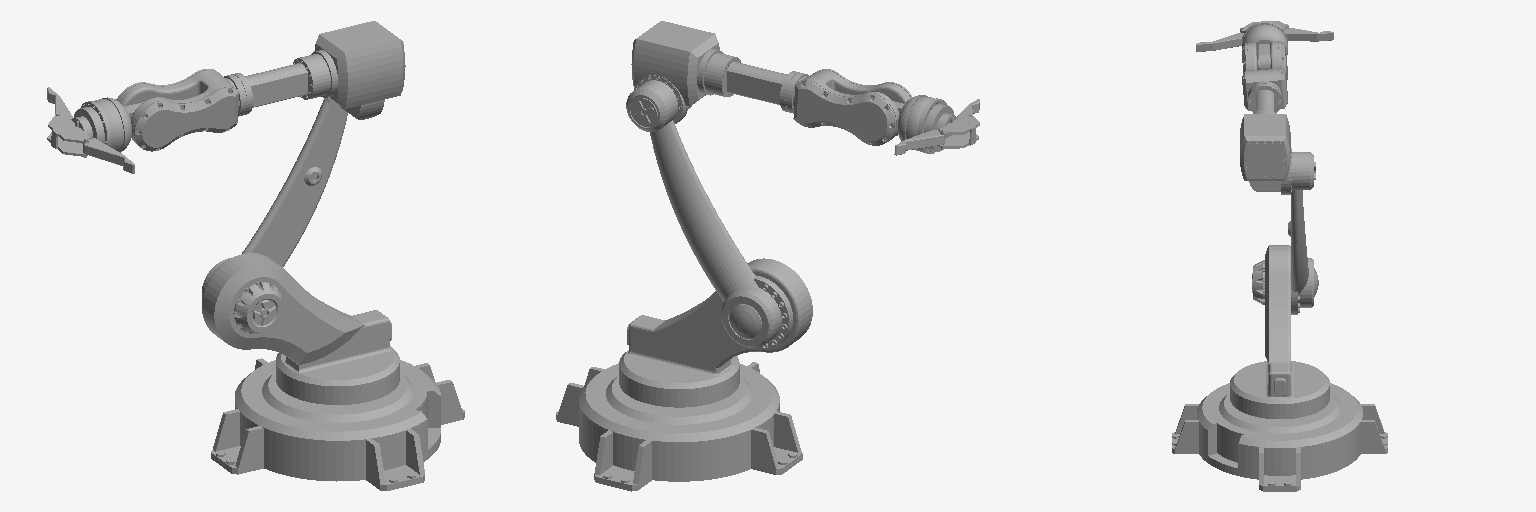
robot.urdf — conbime_ver1:
<?xml version="1.0" ?>
<!-- =================================================================================== -->
<!-- |    This document was autogenerated by xacro from urdf/conbime_ver1.xacro        | -->
<!-- |    EDITING THIS FILE BY HAND IS NOT RECOMMENDED                                 | -->
<!-- =================================================================================== -->
<robot xmlns:xacro="http://www.ros.org/wiki/xacro" name="conbime_ver1">
  <material name="silver">
    <color rgba="0.700 0.700 0.700 1.000"/>
  </material>
  <transmission name="Revolute 1_tran">
    <type>transmission_interface/SimpleTransmission</type>
    <joint name="Revolute 1">
      <hardwareInterface>hardware_interface/EffortJointInterface</hardwareInterface>
    </joint>
    <actuator name="Revolute 1_actr">
      <hardwareInterface>hardware_interface/EffortJointInterface</hardwareInterface>
      <mechanicalReduction>1</mechanicalReduction>
    </actuator>
  </transmission>
  <transmission name="Revolute 2_tran">
    <type>transmission_interface/SimpleTransmission</type>
    <joint name="Revolute 2">
      <hardwareInterface>hardware_interface/EffortJointInterface</hardwareInterface>
    </joint>
    <actuator name="Revolute 2_actr">
      <hardwareInterface>hardware_interface/EffortJointInterface</hardwareInterface>
      <mechanicalReduction>1</mechanicalReduction>
    </actuator>
  </transmission>
  <transmission name="Revolute 3_tran">
    <type>transmission_interface/SimpleTransmission</type>
    <joint name="Revolute 3">
      <hardwareInterface>hardware_interface/EffortJointInterface</hardwareInterface>
    </joint>
    <actuator name="Revolute 3_actr">
      <hardwareInterface>hardware_interface/EffortJointInterface</hardwareInterface>
      <mechanicalReduction>1</mechanicalReduction>
    </actuator>
  </transmission>
  <transmission name="Revolute 5_tran">
    <type>transmission_interface/SimpleTransmission</type>
    <joint name="Revolute 5">
      <hardwareInterface>hardware_interface/EffortJointInterface</hardwareInterface>
    </joint>
    <actuator name="Revolute 5_actr">
      <hardwareInterface>hardware_interface/EffortJointInterface</hardwareInterface>
      <mechanicalReduction>1</mechanicalReduction>
    </actuator>
  </transmission>
  <transmission name="Revolute 6_tran">
    <type>transmission_interface/SimpleTransmission</type>
    <joint name="Revolute 6">
      <hardwareInterface>hardware_interface/EffortJointInterface</hardwareInterface>
    </joint>
    <actuator name="Revolute 6_actr">
      <hardwareInterface>hardware_interface/EffortJointInterface</hardwareInterface>
      <mechanicalReduction>1</mechanicalReduction>
    </actuator>
  </transmission>
  <transmission name="Revolute 7_tran">
    <type>transmission_interface/SimpleTransmission</type>
    <joint name="Revolute 7">
      <hardwareInterface>hardware_interface/EffortJointInterface</hardwareInterface>
    </joint>
    <actuator name="Revolute 7_actr">
      <hardwareInterface>hardware_interface/EffortJointInterface</hardwareInterface>
      <mechanicalReduction>1</mechanicalReduction>
    </actuator>
  </transmission>
  <transmission name="Revolute 10_tran">
    <type>transmission_interface/SimpleTransmission</type>
    <joint name="Revolute 10">
      <hardwareInterface>hardware_interface/EffortJointInterface</hardwareInterface>
    </joint>
    <actuator name="Revolute 10_actr">
      <hardwareInterface>hardware_interface/EffortJointInterface</hardwareInterface>
      <mechanicalReduction>1</mechanicalReduction>
    </actuator>
  </transmission>
  <transmission name="Revolute 11_tran">
    <type>transmission_interface/SimpleTransmission</type>
    <joint name="Revolute 11">
      <hardwareInterface>hardware_interface/EffortJointInterface</hardwareInterface>
    </joint>
    <actuator name="Revolute 11_actr">
      <hardwareInterface>hardware_interface/EffortJointInterface</hardwareInterface>
      <mechanicalReduction>1</mechanicalReduction>
    </actuator>
  </transmission>
  <gazebo>
    <plugin name="control" filename="libgazebo_ros_control.so"/>
  </gazebo>
  <gazebo reference="base_link">
    <material>Gazebo/Silver</material>
    <mu1>0.2</mu1>
    <mu2>0.2</mu2>
    <selfCollide>true</selfCollide>
    <gravity>true</gravity>
  </gazebo>
  <gazebo reference="Robotic_Arm_ver1_2urdf_Component2_v1_1">
    <material>Gazebo/Silver</material>
    <mu1>0.2</mu1>
    <mu2>0.2</mu2>
    <selfCollide>true</selfCollide>
  </gazebo>
  <gazebo reference="Robotic_Arm_ver1_2urdf_Component3_v1_1">
    <material>Gazebo/Silver</material>
    <mu1>0.2</mu1>
    <mu2>0.2</mu2>
    <selfCollide>true</selfCollide>
  </gazebo>
  <gazebo reference="Robotic_Arm_ver1_2urdf_Component4_v1_1">
    <material>Gazebo/Silver</material>
    <mu1>0.2</mu1>
    <mu2>0.2</mu2>
    <selfCollide>true</selfCollide>
  </gazebo>
  <gazebo reference="Robotic_Arm_ver1_2urdf_Component5_v1_1">
    <material>Gazebo/Silver</material>
    <mu1>0.2</mu1>
    <mu2>0.2</mu2>
    <selfCollide>true</selfCollide>
  </gazebo>
  <gazebo reference="Robotic_Arm_ver1_2urdf_Component6_v1_1">
    <material>Gazebo/Silver</material>
    <mu1>0.2</mu1>
    <mu2>0.2</mu2>
    <selfCollide>true</selfCollide>
  </gazebo>
  <gazebo reference="Robotic_Arm_ver1_2urdf_Component7_v1_1">
    <material>Gazebo/Silver</material>
    <mu1>0.2</mu1>
    <mu2>0.2</mu2>
    <selfCollide>true</selfCollide>
  </gazebo>
  <gazebo reference="Robotic_Arm_ver1_2urdf_Component8_v1_1">
    <material>Gazebo/Silver</material>
    <mu1>0.2</mu1>
    <mu2>0.2</mu2>
    <selfCollide>true</selfCollide>
  </gazebo>
  <gazebo reference="Robotic_Arm_ver1_2urdf_Component8_v1__1__1">
    <material>Gazebo/Silver</material>
    <mu1>0.2</mu1>
    <mu2>0.2</mu2>
    <selfCollide>true</selfCollide>
  </gazebo>
  <link name="base_link">
    <inertial>
      <origin xyz="0.0007806396519895977 -0.0007806396451176688 0.048593515527982106" rpy="0 0 0"/>
      <mass value="12.473677758806172"/>
      <inertia ixx="0.118752" iyy="0.118752" izz="0.218412" ixy="0.000272" iyz="-0.000713" ixz="0.000713"/>
    </inertial>
    <visual>
      <origin xyz="0 0 0" rpy="0 0 0"/>
      <geometry>
        <mesh filename="package://conbime_ver1_description/meshes/base_link.stl" scale="0.001 0.001 0.001"/>
      </geometry>
      <material name="silver"/>
    </visual>
    <collision>
      <origin xyz="0 0 0" rpy="0 0 0"/>
      <geometry>
        <mesh filename="package://conbime_ver1_description/meshes/base_link.stl" scale="0.001 0.001 0.001"/>
      </geometry>
    </collision>
  </link>
  <link name="Robotic_Arm_ver1_2urdf_Component2_v1_1">
    <inertial>
      <origin xyz="-0.056861586080370785 -0.002799253146421256 0.072902279125296" rpy="0 0 0"/>
      <mass value="18.09836147401845"/>
      <inertia ixx="0.09336" iyy="0.186513" izz="0.127406" ixy="-0.003762" iyz="0.003286" ixz="0.071121"/>
    </inertial>
    <visual>
      <origin xyz="-0.0 -0.0 -0.104" rpy="0 0 0"/>
      <geometry>
        <mesh filename="package://conbime_ver1_description/meshes/Robotic_Arm_ver1_2urdf_Component2_v1_1.stl" scale="0.001 0.001 0.001"/>
      </geometry>
      <material name="silver"/>
    </visual>
    <collision>
      <origin xyz="-0.0 -0.0 -0.104" rpy="0 0 0"/>
      <geometry>
        <mesh filename="package://conbime_ver1_description/meshes/Robotic_Arm_ver1_2urdf_Component2_v1_1.stl" scale="0.001 0.001 0.001"/>
      </geometry>
    </collision>
  </link>
  <link name="Robotic_Arm_ver1_2urdf_Component3_v1_1">
    <inertial>
      <origin xyz="0.07519560671235662 0.035272202867928204 0.11434064250837306" rpy="0 0 0"/>
      <mass value="6.899811543127018"/>
      <inertia ixx="0.09868" iyy="0.134098" izz="0.037409" ixy="0.000582" iyz="0.000608" ixz="-0.055788"/>
    </inertial>
    <visual>
      <origin xyz="0.15 -0.0 -0.254" rpy="0 0 0"/>
      <geometry>
        <mesh filename="package://conbime_ver1_description/meshes/Robotic_Arm_ver1_2urdf_Component3_v1_1.stl" scale="0.001 0.001 0.001"/>
      </geometry>
      <material name="silver"/>
    </visual>
    <collision>
      <origin xyz="0.15 -0.0 -0.254" rpy="0 0 0"/>
      <geometry>
        <mesh filename="package://conbime_ver1_description/meshes/Robotic_Arm_ver1_2urdf_Component3_v1_1.stl" scale="0.001 0.001 0.001"/>
      </geometry>
    </collision>
  </link>
  <link name="Robotic_Arm_ver1_2urdf_Component4_v1_1">
    <inertial>
      <origin xyz="-0.03544557690535207 -0.02504426465095886 0.038926916052581695" rpy="0 0 0"/>
      <mass value="9.992708750642434"/>
      <inertia ixx="0.01335" iyy="0.051348" izz="0.048383" ixy="-0.000664" iyz="0.000865" ixz="0.002152"/>
    </inertial>
    <visual>
      <origin xyz="-0.025 -0.0 -0.557109" rpy="0 0 0"/>
      <geometry>
        <mesh filename="package://conbime_ver1_description/meshes/Robotic_Arm_ver1_2urdf_Component4_v1_1.stl" scale="0.001 0.001 0.001"/>
      </geometry>
      <material name="silver"/>
    </visual>
    <collision>
      <origin xyz="-0.025 -0.0 -0.557109" rpy="0 0 0"/>
      <geometry>
        <mesh filename="package://conbime_ver1_description/meshes/Robotic_Arm_ver1_2urdf_Component4_v1_1.stl" scale="0.001 0.001 0.001"/>
      </geometry>
    </collision>
  </link>
  <link name="Robotic_Arm_ver1_2urdf_Component5_v1_1">
    <inertial>
      <origin xyz="-0.09983507706433631 9.234350483583453e-08 -9.146592294673184e-08" rpy="0 0 0"/>
      <mass value="4.896549506749971"/>
      <inertia ixx="0.004578" iyy="0.01561" izz="0.0169" ixy="-0.0" iyz="-0.000114" ixz="0.0"/>
    </inertial>
    <visual>
      <origin xyz="0.176 0.026956 -0.602109" rpy="0 0 0"/>
      <geometry>
        <mesh filename="package://conbime_ver1_description/meshes/Robotic_Arm_ver1_2urdf_Component5_v1_1.stl" scale="0.001 0.001 0.001"/>
      </geometry>
      <material name="silver"/>
    </visual>
    <collision>
      <origin xyz="0.176 0.026956 -0.602109" rpy="0 0 0"/>
      <geometry>
        <mesh filename="package://conbime_ver1_description/meshes/Robotic_Arm_ver1_2urdf_Component5_v1_1.stl" scale="0.001 0.001 0.001"/>
      </geometry>
    </collision>
  </link>
  <link name="Robotic_Arm_ver1_2urdf_Component6_v1_1">
    <inertial>
      <origin xyz="-0.05967268352428523 1.0724235042364194e-07 -1.0867544730785994e-07" rpy="0 0 0"/>
      <mass value="2.4502212088594106"/>
      <inertia ixx="0.001685" iyy="0.00255" izz="0.002528" ixy="-0.0" iyz="2e-06" ixz="-0.0"/>
    </inertial>
    <visual>
      <origin xyz="0.334479 0.026956 -0.602109" rpy="0 0 0"/>
      <geometry>
        <mesh filename="package://conbime_ver1_description/meshes/Robotic_Arm_ver1_2urdf_Component6_v1_1.stl" scale="0.001 0.001 0.001"/>
      </geometry>
      <material name="silver"/>
    </visual>
    <collision>
      <origin xyz="0.334479 0.026956 -0.602109" rpy="0 0 0"/>
      <geometry>
        <mesh filename="package://conbime_ver1_description/meshes/Robotic_Arm_ver1_2urdf_Component6_v1_1.stl" scale="0.001 0.001 0.001"/>
      </geometry>
    </collision>
  </link>
  <link name="Robotic_Arm_ver1_2urdf_Component7_v1_1">
    <inertial>
      <origin xyz="-0.008207251146720884 1.0724226958205851e-07 -1.0867565514161015e-07" rpy="0 0 0"/>
      <mass value="0.631045998433483"/>
      <inertia ixx="0.000333" iyy="0.000302" izz="0.000359" ixy="0.0" iyz="-5e-06" ixz="-0.0"/>
    </inertial>
    <visual>
      <origin xyz="0.438479 0.026956 -0.602109" rpy="0 0 0"/>
      <geometry>
        <mesh filename="package://conbime_ver1_description/meshes/Robotic_Arm_ver1_2urdf_Component7_v1_1.stl" scale="0.001 0.001 0.001"/>
      </geometry>
      <material name="silver"/>
    </visual>
    <collision>
      <origin xyz="0.438479 0.026956 -0.602109" rpy="0 0 0"/>
      <geometry>
        <mesh filename="package://conbime_ver1_description/meshes/Robotic_Arm_ver1_2urdf_Component7_v1_1.stl" scale="0.001 0.001 0.001"/>
      </geometry>
    </collision>
  </link>
  <link name="Robotic_Arm_ver1_2urdf_Component8_v1_1">
    <inertial>
      <origin xyz="0.019057080834595952 -0.025186074755067803 -0.003199260230019152" rpy="0 0 0"/>
      <mass value="0.17302061542980338"/>
      <inertia ixx="0.000109" iyy="2e-05" izz="0.00012" ixy="3.2e-05" iyz="-9e-06" ixz="3e-06"/>
    </inertial>
    <visual>
      <origin xyz="0.461371 0.06761 -0.598552" rpy="0 0 0"/>
      <geometry>
        <mesh filename="package://conbime_ver1_description/meshes/Robotic_Arm_ver1_2urdf_Component8_v1_1.stl" scale="0.001 0.001 0.001"/>
      </geometry>
      <material name="silver"/>
    </visual>
    <collision>
      <origin xyz="0.461371 0.06761 -0.598552" rpy="0 0 0"/>
      <geometry>
        <mesh filename="package://conbime_ver1_description/meshes/Robotic_Arm_ver1_2urdf_Component8_v1_1.stl" scale="0.001 0.001 0.001"/>
      </geometry>
    </collision>
  </link>
  <link name="Robotic_Arm_ver1_2urdf_Component8_v1__1__1">
    <inertial>
      <origin xyz="0.019021962261610736 0.025124486149085037 0.003193621578866379" rpy="0 0 0"/>
      <mass value="0.17302028685492585"/>
      <inertia ixx="0.000109" iyy="2e-05" izz="0.00012" ixy="-3.1e-05" iyz="-9e-06" ixz="-3e-06"/>
    </inertial>
    <visual>
      <origin xyz="0.461371 -0.013698 -0.605666" rpy="0 0 0"/>
      <geometry>
        <mesh filename="package://conbime_ver1_description/meshes/Robotic_Arm_ver1_2urdf_Component8_v1__1__1.stl" scale="0.001 0.001 0.001"/>
      </geometry>
      <material name="silver"/>
    </visual>
    <collision>
      <origin xyz="0.461371 -0.013698 -0.605666" rpy="0 0 0"/>
      <geometry>
        <mesh filename="package://conbime_ver1_description/meshes/Robotic_Arm_ver1_2urdf_Component8_v1__1__1.stl" scale="0.001 0.001 0.001"/>
      </geometry>
    </collision>
  </link>
  <joint name="Revolute 1" type="continuous">
    <origin xyz="0.0 0.0 0.104" rpy="0 0 0"/>
    <parent link="base_link"/>
    <child link="Robotic_Arm_ver1_2urdf_Component2_v1_1"/>
    <axis xyz="0.0 0.0 1.0"/>
  </joint>
  <joint name="Revolute 2" type="continuous">
    <origin xyz="-0.15 0.0 0.15" rpy="0 0 0"/>
    <parent link="Robotic_Arm_ver1_2urdf_Component2_v1_1"/>
    <child link="Robotic_Arm_ver1_2urdf_Component3_v1_1"/>
    <axis xyz="0.0 1.0 -0.0"/>
  </joint>
  <joint name="Revolute 3" type="continuous">
    <origin xyz="0.175 0.0 0.303109" rpy="0 0 0"/>
    <parent link="Robotic_Arm_ver1_2urdf_Component3_v1_1"/>
    <child link="Robotic_Arm_ver1_2urdf_Component4_v1_1"/>
    <axis xyz="0.0 -1.0 0.0"/>
  </joint>
  <joint name="Revolute 5" type="continuous">
    <origin xyz="-0.201 -0.026956 0.045" rpy="0 0 0"/>
    <parent link="Robotic_Arm_ver1_2urdf_Component4_v1_1"/>
    <child link="Robotic_Arm_ver1_2urdf_Component5_v1_1"/>
    <axis xyz="-1.0 -0.0 0.0"/>
  </joint>
  <joint name="Revolute 6" type="continuous">
    <origin xyz="-0.158479 0.0 0.0" rpy="0 0 0"/>
    <parent link="Robotic_Arm_ver1_2urdf_Component5_v1_1"/>
    <child link="Robotic_Arm_ver1_2urdf_Component6_v1_1"/>
    <axis xyz="0.0 0.996195 0.087156"/>
  </joint>
  <joint name="Revolute 7" type="continuous">
    <origin xyz="-0.104 0.0 0.0" rpy="0 0 0"/>
    <parent link="Robotic_Arm_ver1_2urdf_Component6_v1_1"/>
    <child link="Robotic_Arm_ver1_2urdf_Component7_v1_1"/>
    <axis xyz="-1.0 0.0 -0.0"/>
  </joint>
  <joint name="Revolute 10" type="continuous">
    <origin xyz="-0.022892 -0.040654 -0.003557" rpy="0 0 0"/>
    <parent link="Robotic_Arm_ver1_2urdf_Component7_v1_1"/>
    <child link="Robotic_Arm_ver1_2urdf_Component8_v1_1"/>
    <axis xyz="-0.0 -0.087156 0.996195"/>
  </joint>
  <joint name="Revolute 11" type="continuous">
    <origin xyz="-0.022892 0.040654 0.003557" rpy="0 0 0"/>
    <parent link="Robotic_Arm_ver1_2urdf_Component7_v1_1"/>
    <child link="Robotic_Arm_ver1_2urdf_Component8_v1__1__1"/>
    <axis xyz="-0.0 -0.087156 0.996195"/>
  </joint>
</robot>

--- Facts derived from the render (not from the file) ---
The picture shows the robot from 3 angles, left to right: view 1: azimuth 30°, elevation 25°; view 2: azimuth 150°, elevation 25°; view 3: azimuth 270°, elevation 25°; orthographic projection.
Robot: conbime_ver1 — 9 links, 8 joints (8 continuous); root link base_link; default pose: every joint at zero.
Visible links, largest first — view 1: base_link, Robotic_Arm_ver1_2urdf_Component2_v1_1, Robotic_Arm_ver1_2urdf_Component4_v1_1, Robotic_Arm_ver1_2urdf_Component5_v1_1, Robotic_Arm_ver1_2urdf_Component3_v1_1, Robotic_Arm_ver1_2urdf_Component7_v1_1, Robotic_Arm_ver1_2urdf_Component6_v1_1, Robotic_Arm_ver1_2urdf_Component8_v1_1; view 2: base_link, Robotic_Arm_ver1_2urdf_Component3_v1_1, Robotic_Arm_ver1_2urdf_Component2_v1_1, Robotic_Arm_ver1_2urdf_Component4_v1_1, Robotic_Arm_ver1_2urdf_Component5_v1_1, Robotic_Arm_ver1_2urdf_Component7_v1_1, Robotic_Arm_ver1_2urdf_Component6_v1_1, Robotic_Arm_ver1_2urdf_Component8_v1__1__1; view 3: base_link, Robotic_Arm_ver1_2urdf_Component2_v1_1, Robotic_Arm_ver1_2urdf_Component4_v1_1, Robotic_Arm_ver1_2urdf_Component3_v1_1, Robotic_Arm_ver1_2urdf_Component5_v1_1, Robotic_Arm_ver1_2urdf_Component6_v1_1.
Link boxes in pixels (x1,y1,x2,y2): base_link: (211,358,464,490); Robotic_Arm_ver1_2urdf_Component2_v1_1: (202,253,399,404); Robotic_Arm_ver1_2urdf_Component4_v1_1: (224,21,405,119); Robotic_Arm_ver1_2urdf_Component5_v1_1: (116,69,239,151); Robotic_Arm_ver1_2urdf_Component3_v1_1: (202,100,347,297); Robotic_Arm_ver1_2urdf_Component7_v1_1: (47,107,102,157); Robotic_Arm_ver1_2urdf_Component6_v1_1: (81,97,143,152); Robotic_Arm_ver1_2urdf_Component8_v1_1: (83,138,134,173); base_link: (556,362,802,491); Robotic_Arm_ver1_2urdf_Component3_v1_1: (626,80,792,349); Robotic_Arm_ver1_2urdf_Component2_v1_1: (619,258,812,407); Robotic_Arm_ver1_2urdf_Component4_v1_1: (631,21,808,123); Robotic_Arm_ver1_2urdf_Component5_v1_1: (793,69,912,145); Robotic_Arm_ver1_2urdf_Component7_v1_1: (926,104,979,151); Robotic_Arm_ver1_2urdf_Component6_v1_1: (893,95,947,153); Robotic_Arm_ver1_2urdf_Component8_v1__1__1: (894,129,945,155); base_link: (1172,383,1387,491); Robotic_Arm_ver1_2urdf_Component2_v1_1: (1230,245,1329,418); Robotic_Arm_ver1_2urdf_Component4_v1_1: (1240,81,1291,194); Robotic_Arm_ver1_2urdf_Component3_v1_1: (1288,152,1318,314); Robotic_Arm_ver1_2urdf_Component5_v1_1: (1242,41,1287,110); Robotic_Arm_ver1_2urdf_Component6_v1_1: (1242,22,1287,69).
Size in the robot's own frame: 0.6863 by 0.3905 by 0.6471 metres.
Meshes: 9 distinct files referenced, 9 mesh visuals loaded (9 binary STL).
